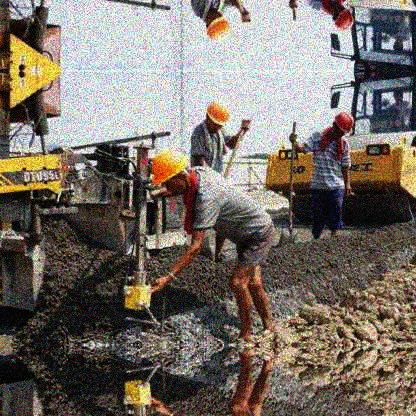helmet: (148, 148, 192, 199), (205, 9, 232, 43), (207, 98, 230, 134), (333, 111, 355, 142), (331, 3, 356, 30)
